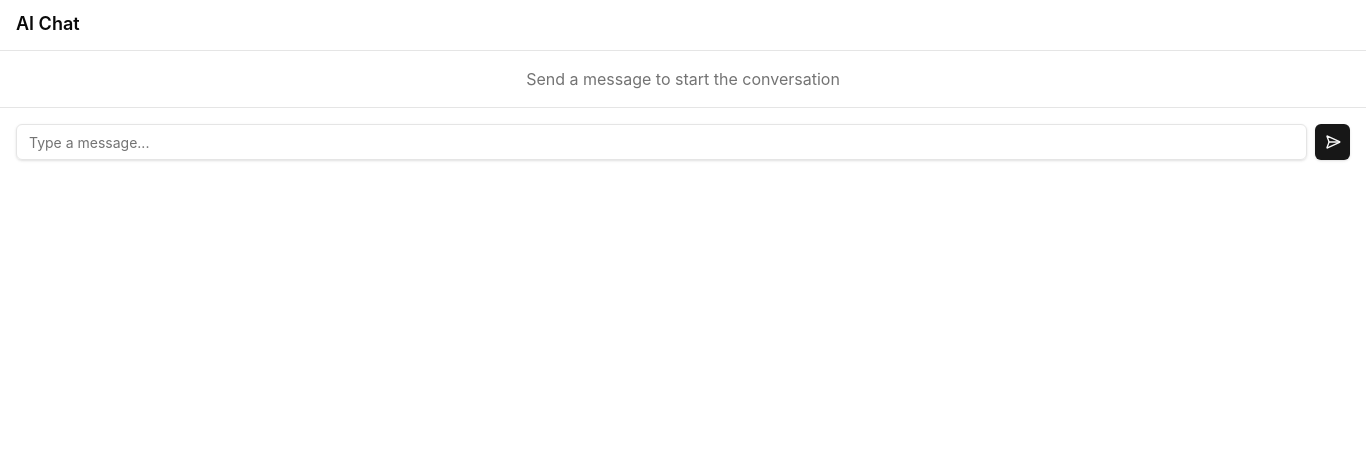
Test: ChatPage › sends multiple messages and displays them all
Type "First message" into the field named "Message input".
click(662, 142); type("First message")  # box [16,124,1307,160]
Then press Enter
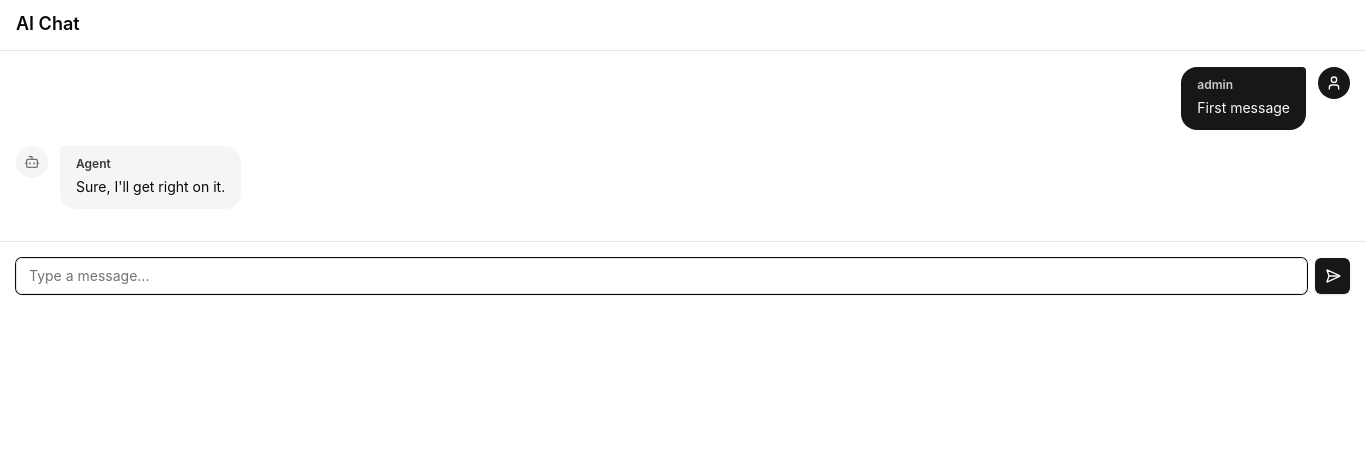
Type "Second message" into the field named "Message input".
click(662, 276); type("Second message")  # box [16,258,1307,294]
Then press Enter
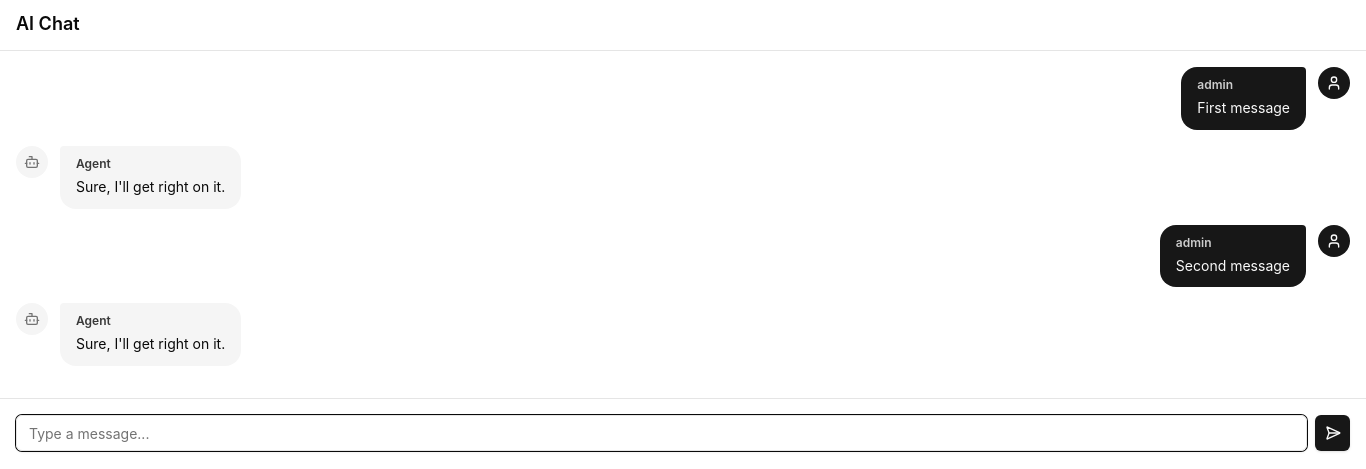
Now the text "First message" is shown, box [1197,97,1290,120]
Now the text "Second message" is shown, box [1176,254,1290,277]
Now the text "admin" is shown 2 times, box [1197,77,1233,93]; [1176,234,1212,250]
